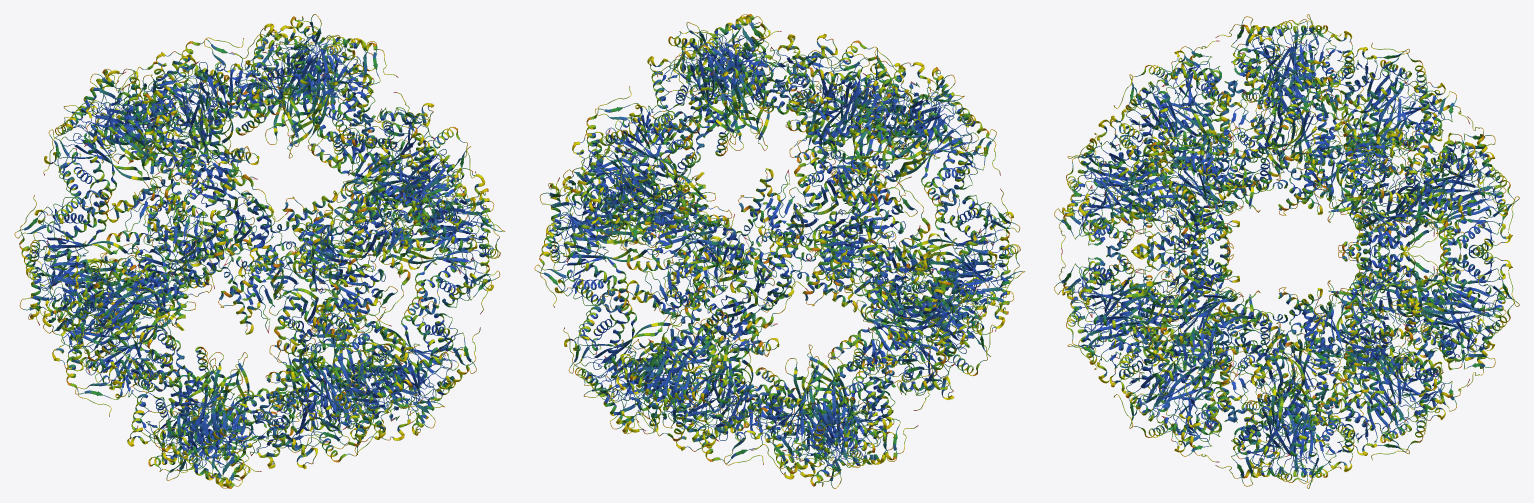
The model's file is asset.glb.
The picture shows the model from 3 angles, left to right: view 1: azimuth 30°, elevation 25°; view 2: azimuth 150°, elevation 25°; view 3: azimuth 270°, elevation 25°; orthographic projection. The views are drawn at different scales.
Bounding box in the file's own units: 234 × 234 × 234.
